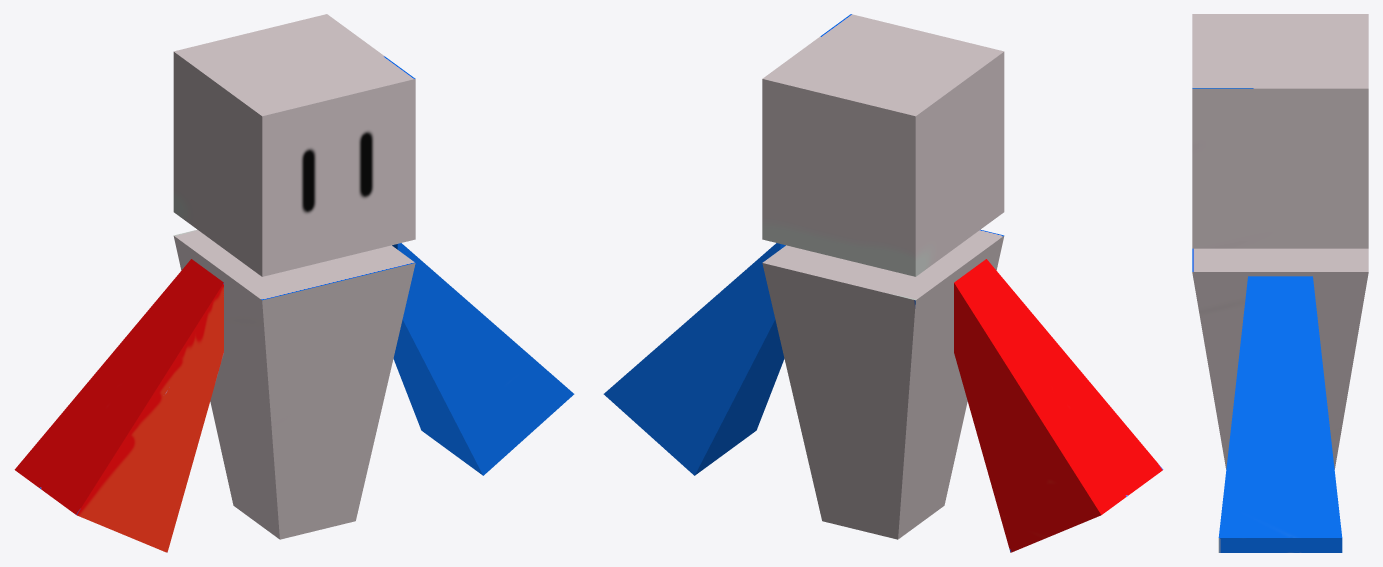
Rendered from Player.obj.
The picture shows the model from 3 angles, left to right: view 1: azimuth 30°, elevation 25°; view 2: azimuth 150°, elevation 25°; view 3: azimuth 270°, elevation 25°; orthographic projection.
Parts seen in each view (by area): view 1: Head_立方体, Body_Cube, LeftArm_Cube.001, RightArm_Cube.002; view 2: Head_立方体, Body_Cube, LeftArm_Cube.001, RightArm_Cube.002; view 3: Head_立方体, RightArm_Cube.002, Body_Cube.
Part boxes in pixels (x1,y1,x2,y2): Head_立方体: [173, 14, 415, 276]; Body_Cube: [173, 229, 415, 539]; LeftArm_Cube.001: [14, 259, 223, 552]; RightArm_Cube.002: [392, 243, 574, 475]; Head_立方体: [762, 14, 1004, 276]; Body_Cube: [762, 229, 1004, 539]; LeftArm_Cube.001: [954, 259, 1163, 552]; RightArm_Cube.002: [603, 243, 785, 475]; Head_立方体: [1192, 14, 1368, 248]; RightArm_Cube.002: [1218, 276, 1342, 552]; Body_Cube: [1192, 248, 1368, 469].
Size of the model in its own units: 6.49 by 5.58 by 2.
